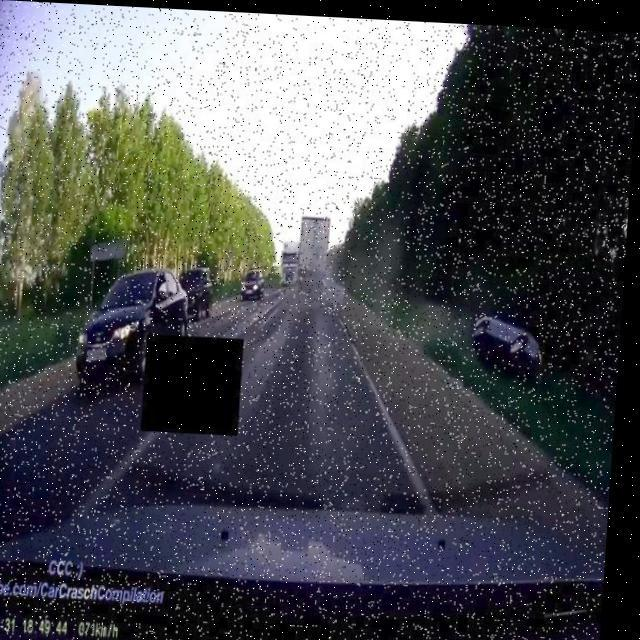normal: (72, 233, 273, 385)
single accident: (463, 272, 543, 392)
